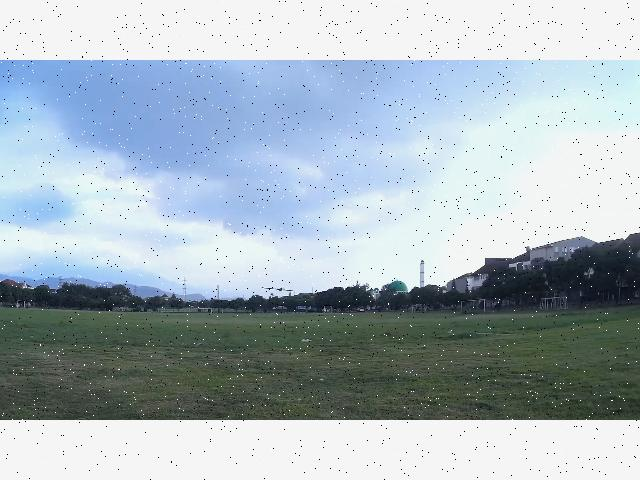Anti-Drone: (262, 286, 296, 292)
